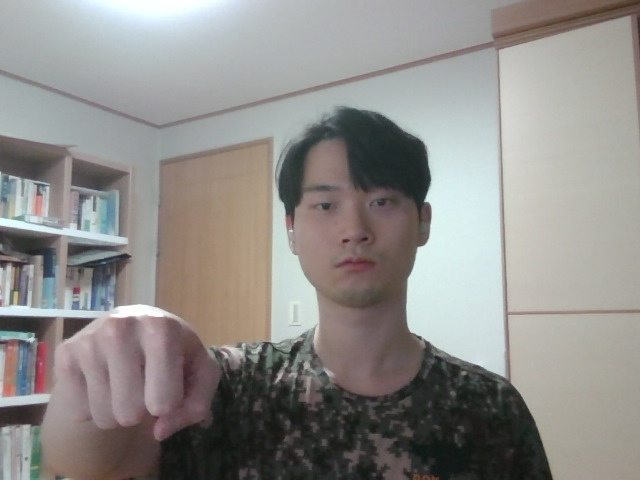yes: (32, 286, 244, 434)
